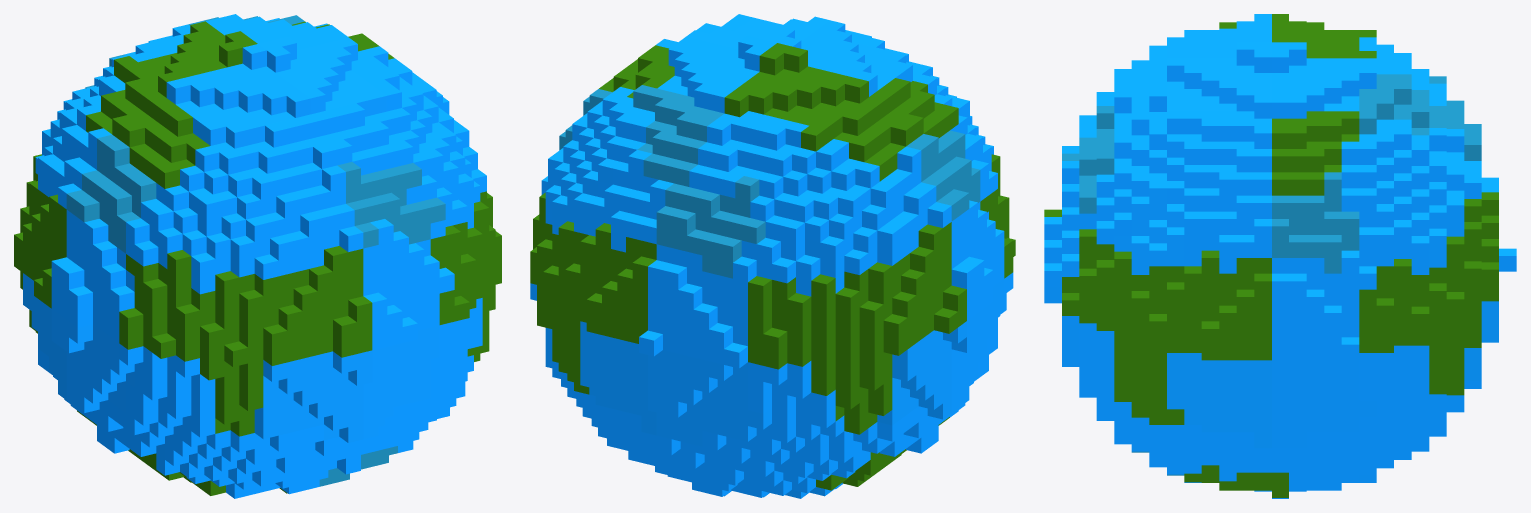
Rendered from world.gltf.
The picture shows the model from 3 angles, left to right: view 1: azimuth 30°, elevation 25°; view 2: azimuth 150°, elevation 25°; view 3: azimuth 270°, elevation 25°; orthographic projection.
Visible parts, largest first — view 1: 球; view 2: 球; view 3: 球.
Part boxes in pixels (x1,y1,x2,y2): 球: (14, 14, 501, 498); 球: (530, 14, 1015, 498); 球: (1044, 14, 1516, 498).
Size of the model in its own units: 2.08 by 2.16 by 2.16.
Materials: 1 (1 with a texture image).
